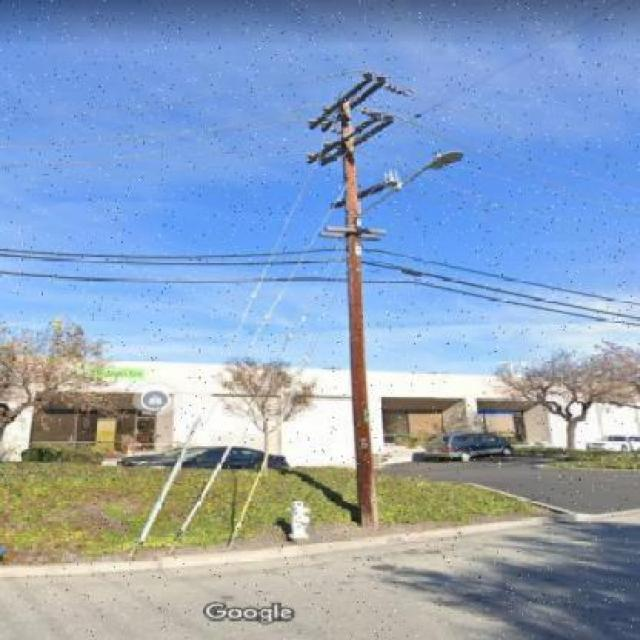pole: (259, 48, 493, 535)
